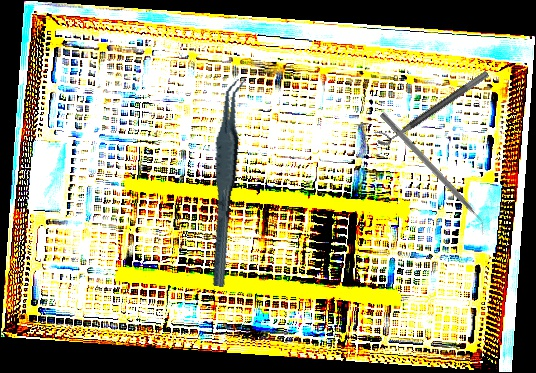Chopper: (373, 111, 492, 237)
Fixation Ring: (371, 61, 491, 150)
Tissue Forceps: (188, 77, 265, 288)
